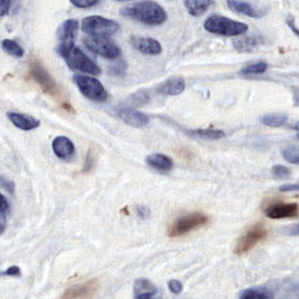Lymphocyte: (264, 199, 299, 223)
